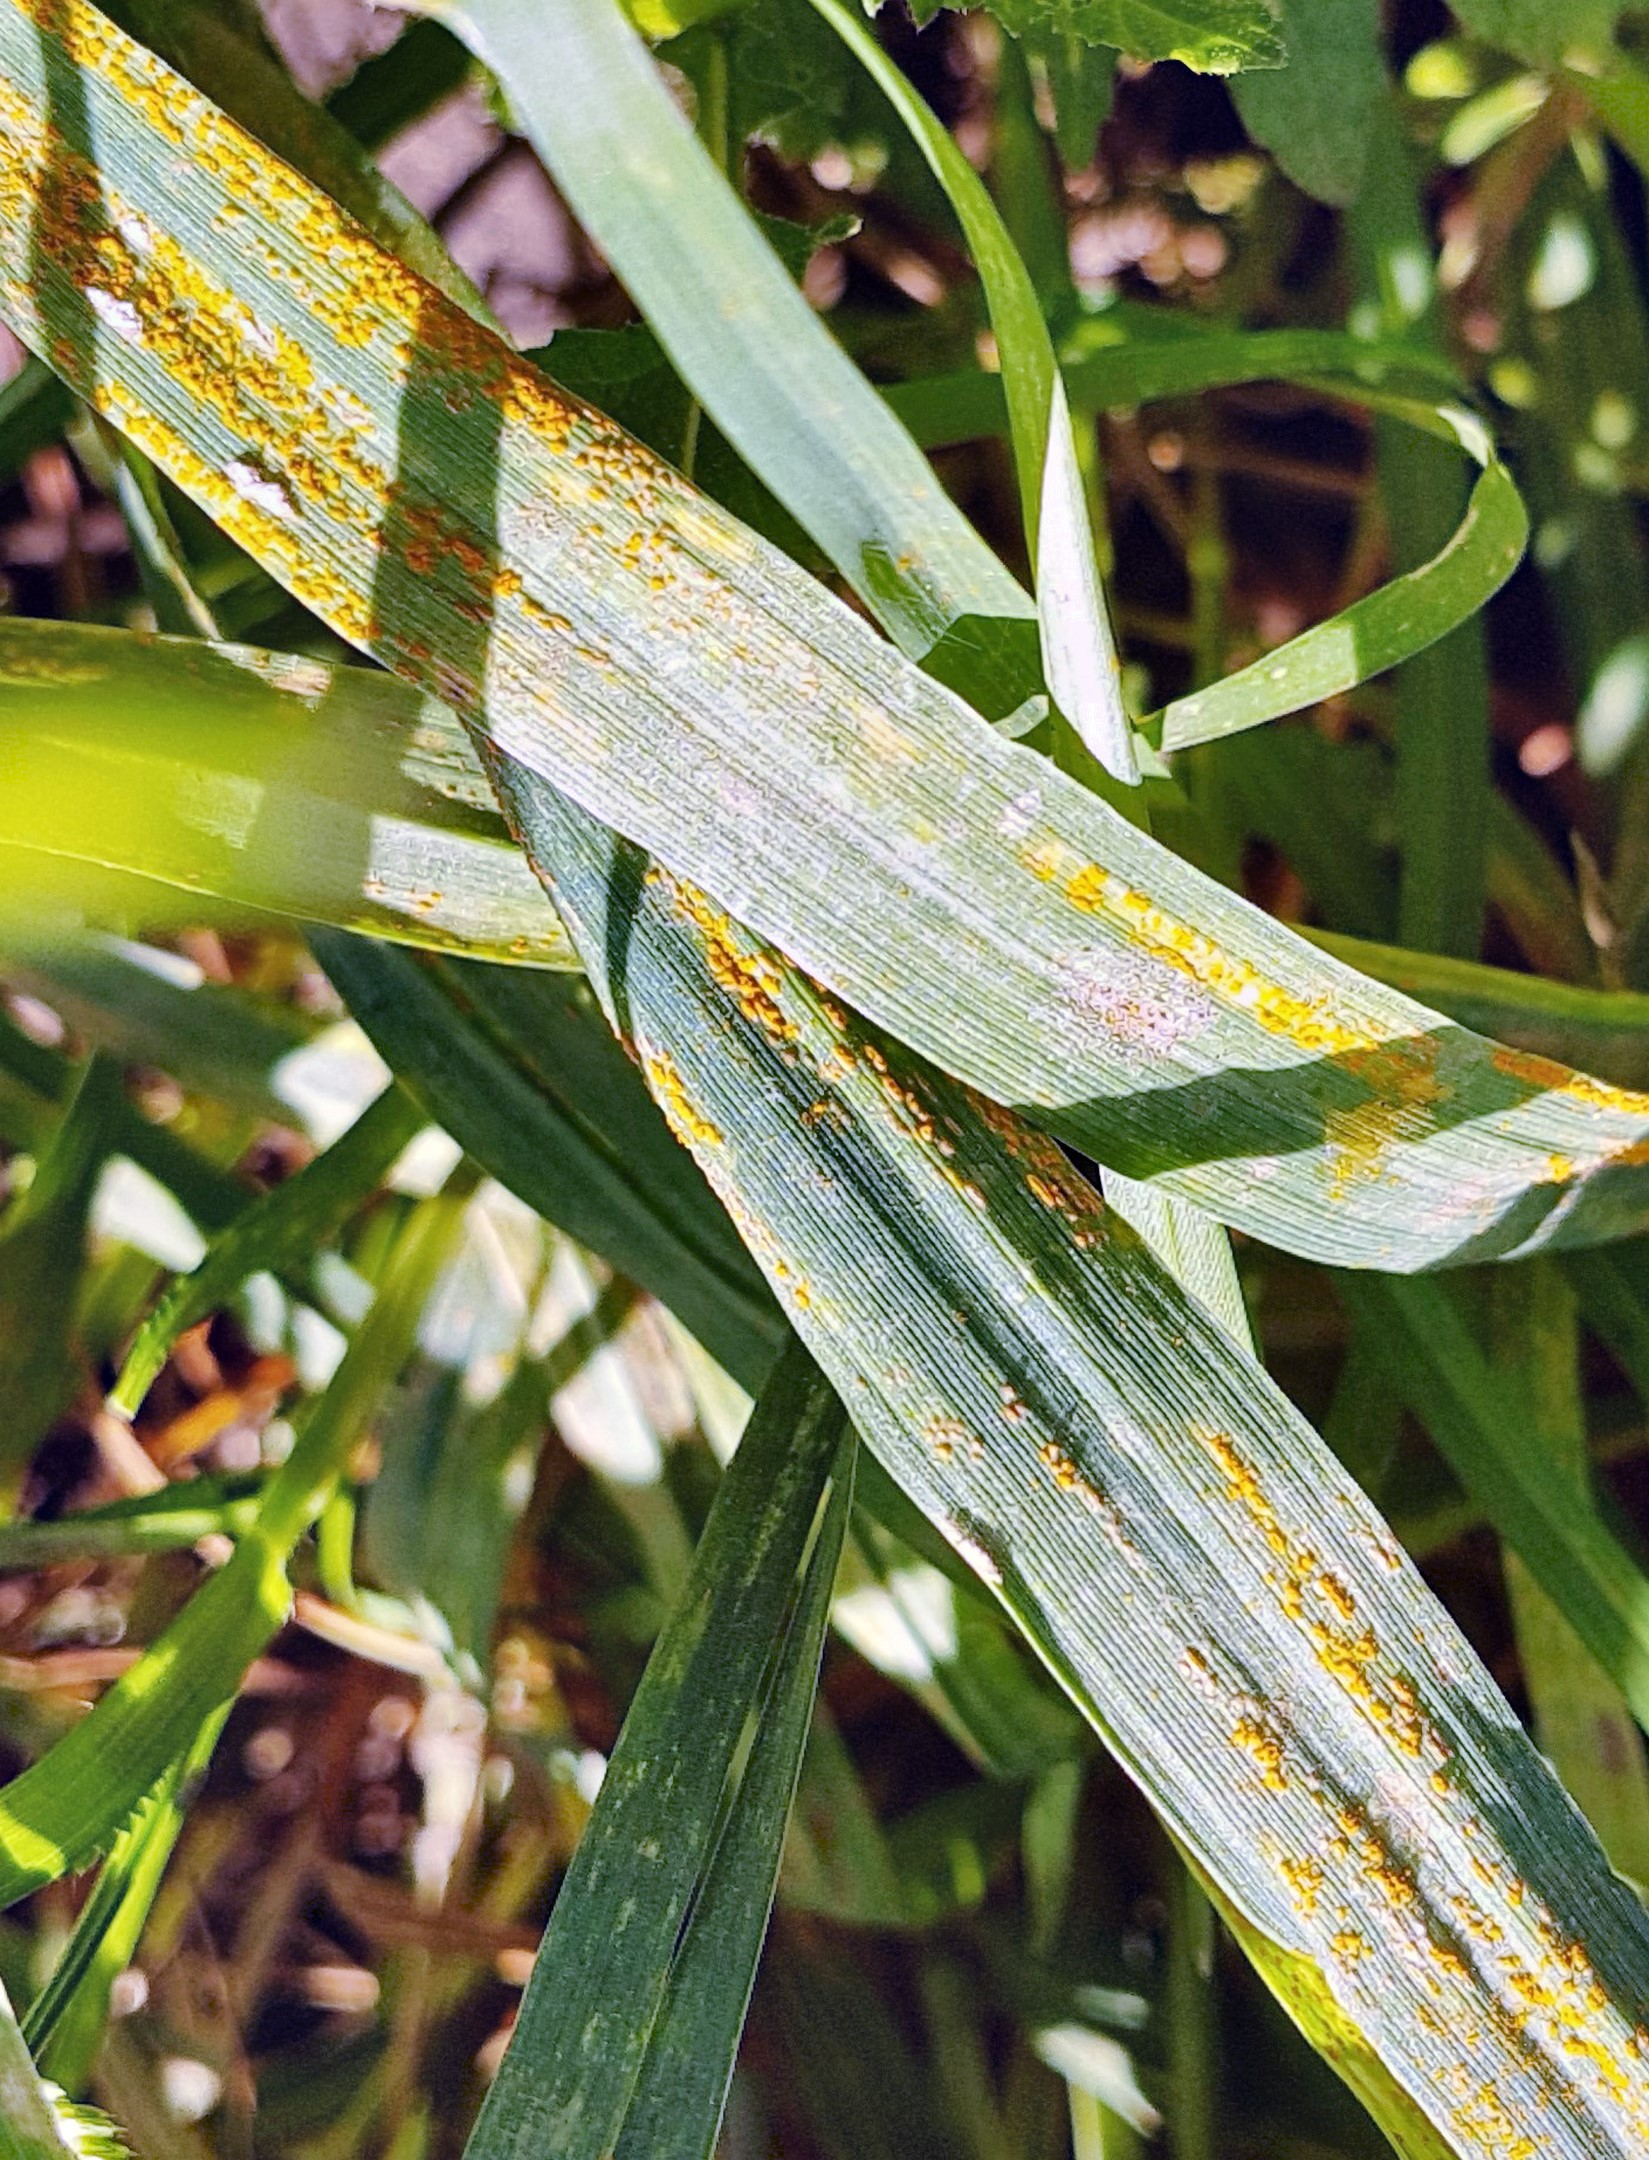Leaf Rust: (2, 28, 648, 634), (1117, 1523, 1649, 2160)
